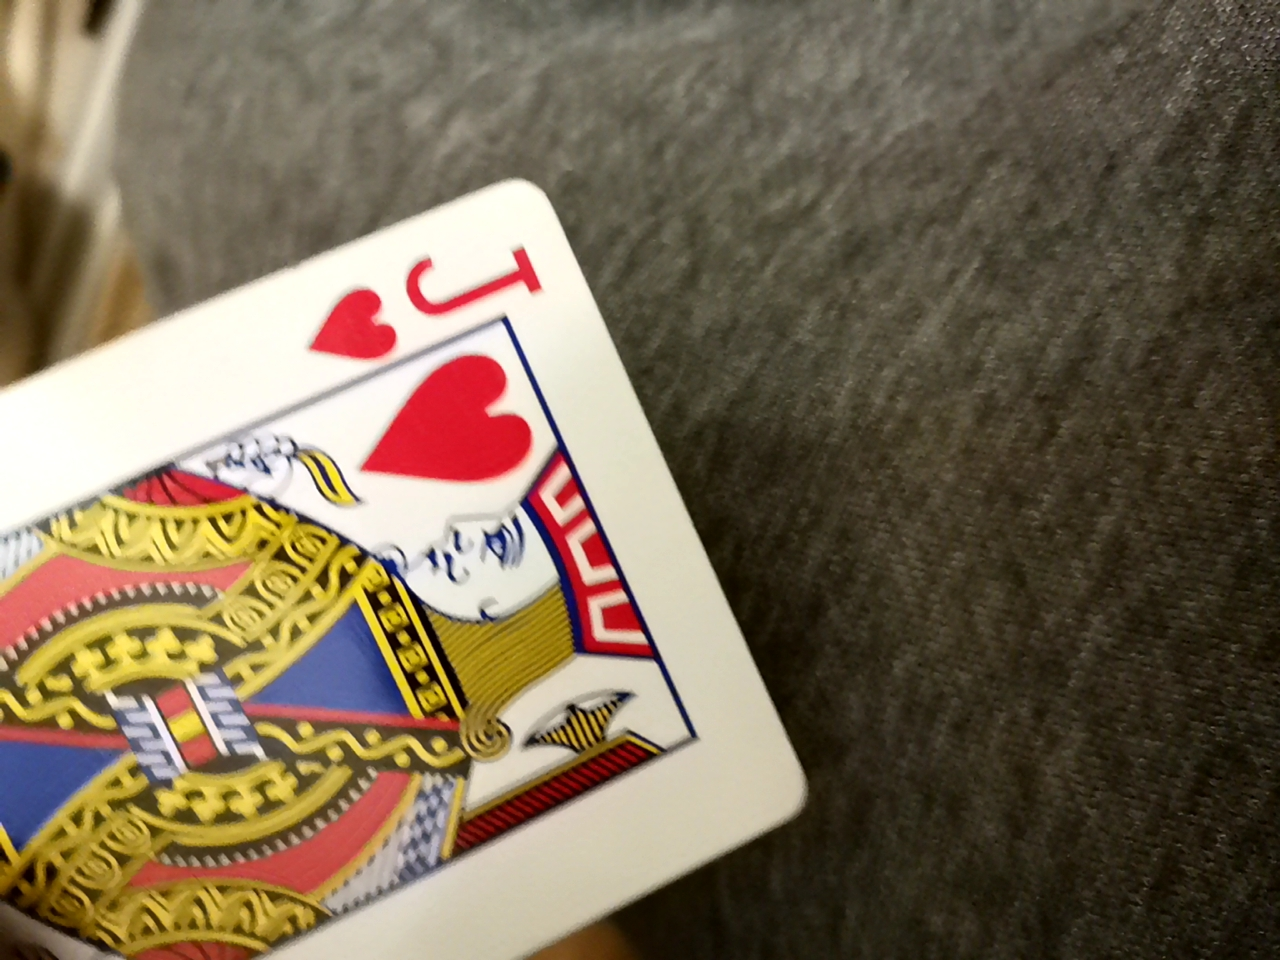hx j: (0, 179, 852, 954)
